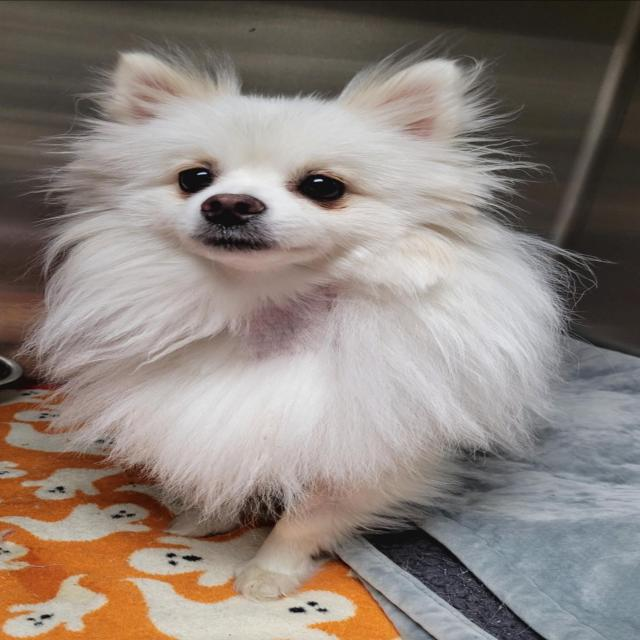pomeranian_dog: (32, 39, 553, 321)
